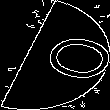O_W: (9, 26, 101, 84)
